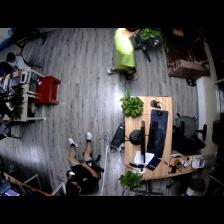normal: (68, 133, 103, 193), (110, 28, 139, 78), (8, 51, 34, 70)
